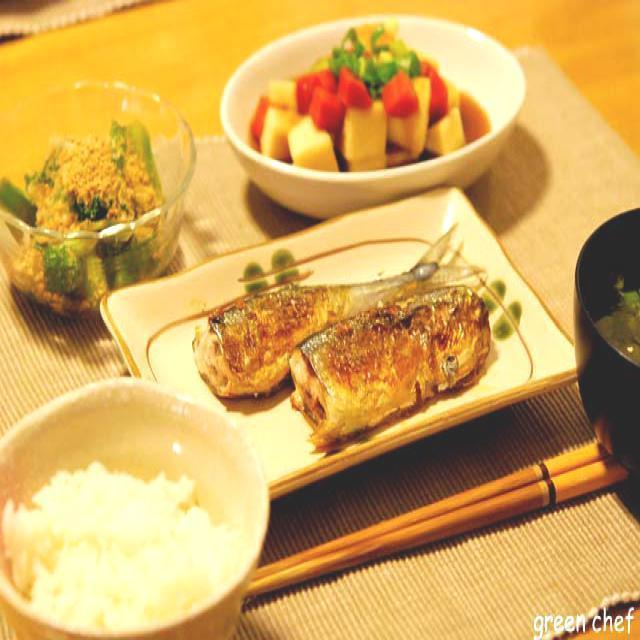grilled-pacific-saury-: (169, 240, 522, 454)
